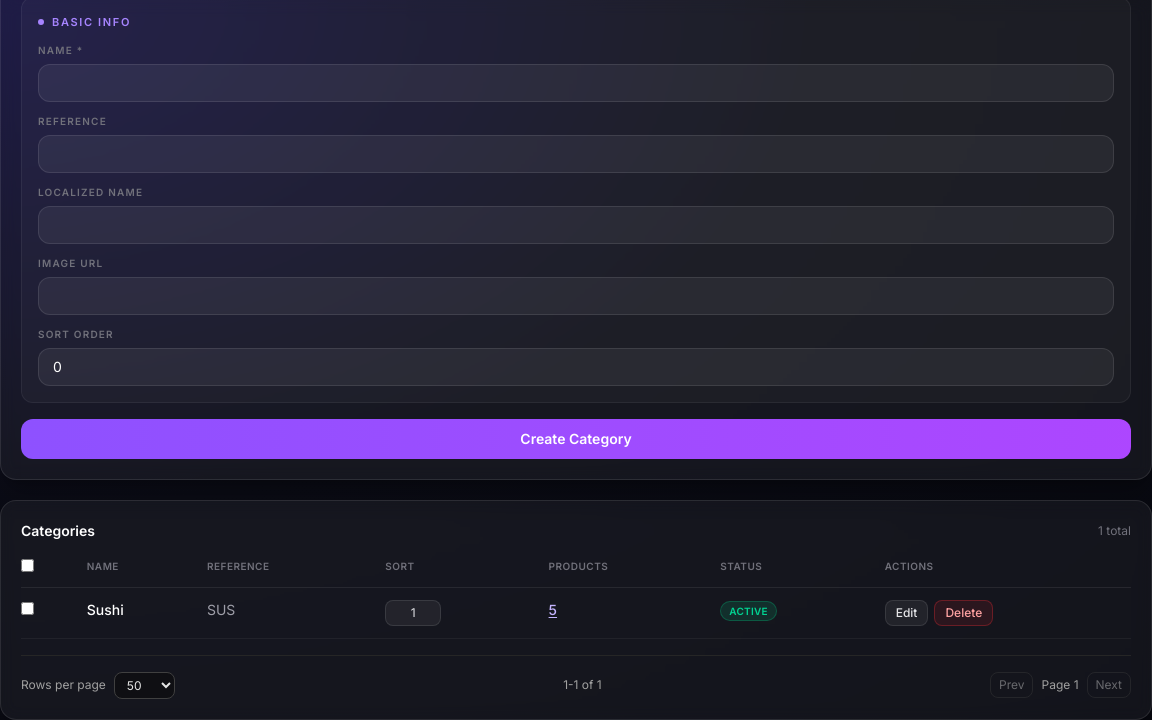
it: MenuCategoriesPage — edit form › clicking Edit fills form and switches to 'Edit Category' mode
(page scrolled)
Expected: the text "Sushi" is shown, [87,600,124,618]
Click the button "Edit". click: (907,612)
box: [885,600,928,626]
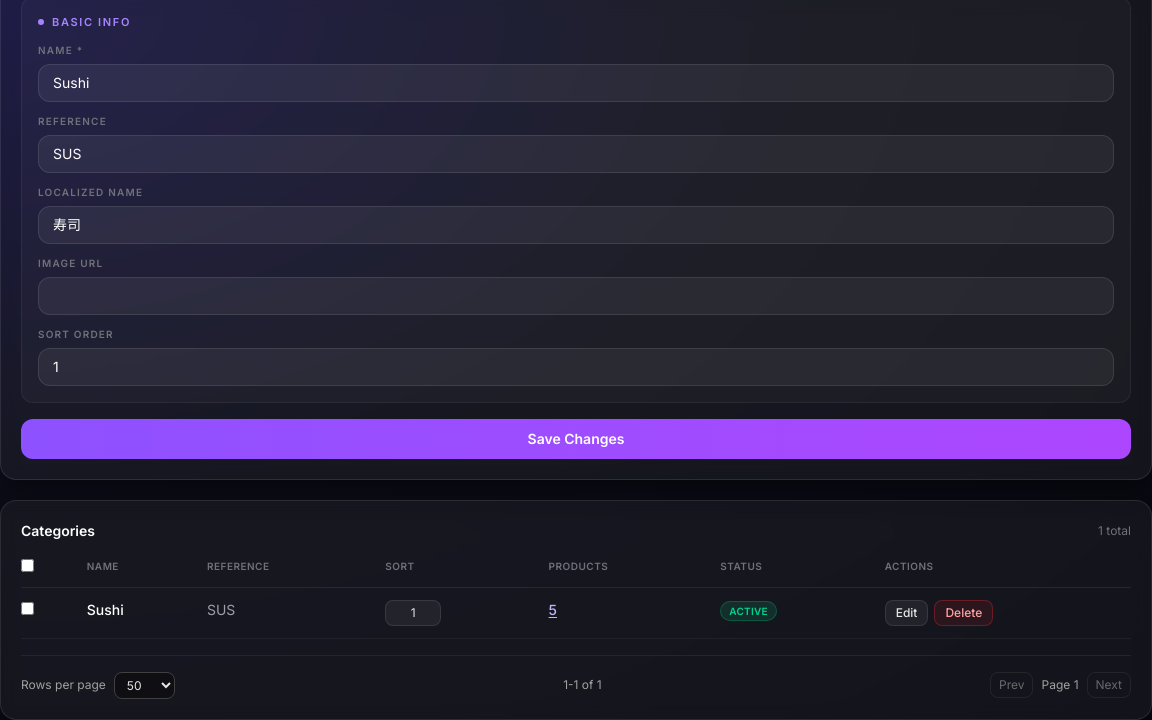
Result: the field below "Name *" holds "Sushi" at [38,64,1114,102]
